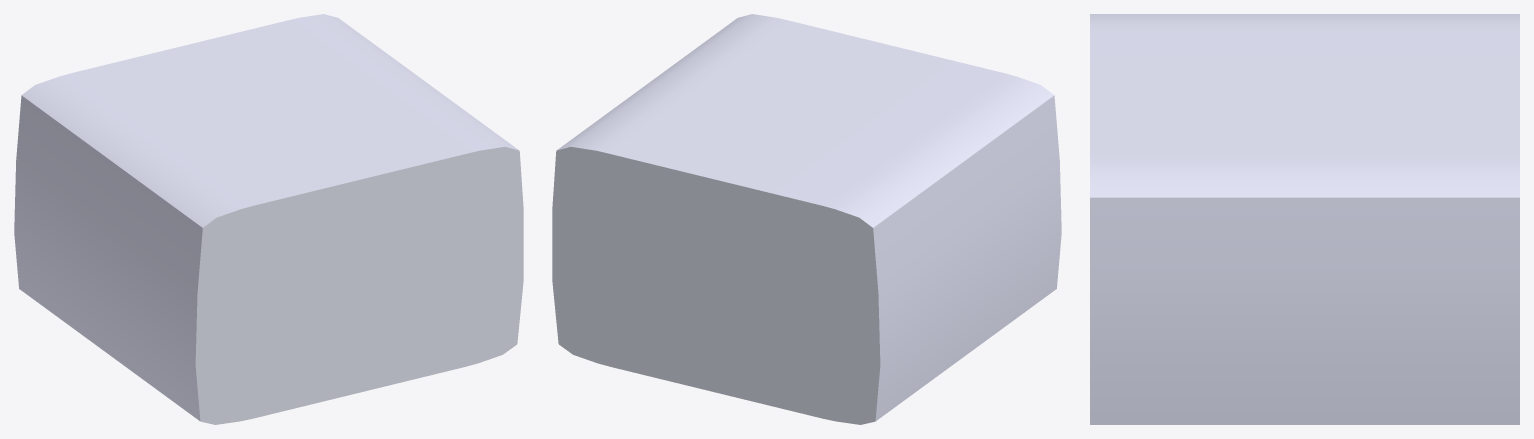
Rendered from 148c3801-4eda-4f08-a7ce-8d08b494c0ad.glb.
3 renders of one model, left to right at view 1: azimuth 30°, elevation 25°; view 2: azimuth 150°, elevation 25°; view 3: azimuth 270°, elevation 25°, orthographic. The views are drawn at different scales.
Parts seen in each view (by area): view 1: symbol-_Zyzol_Grey; view 2: symbol-_Zyzol_Grey; view 3: symbol-_Zyzol_Grey.
Boxes of the visible parts, x1,y1,x2,y2 form: symbol-_Zyzol_Grey: (14, 14, 523, 424); symbol-_Zyzol_Grey: (552, 14, 1061, 424); symbol-_Zyzol_Grey: (1090, 14, 1519, 424).
Size of what is drawn, in the model's own units: 0.047 by 0.0291 by 0.045.
2 materials, 2 textured.
